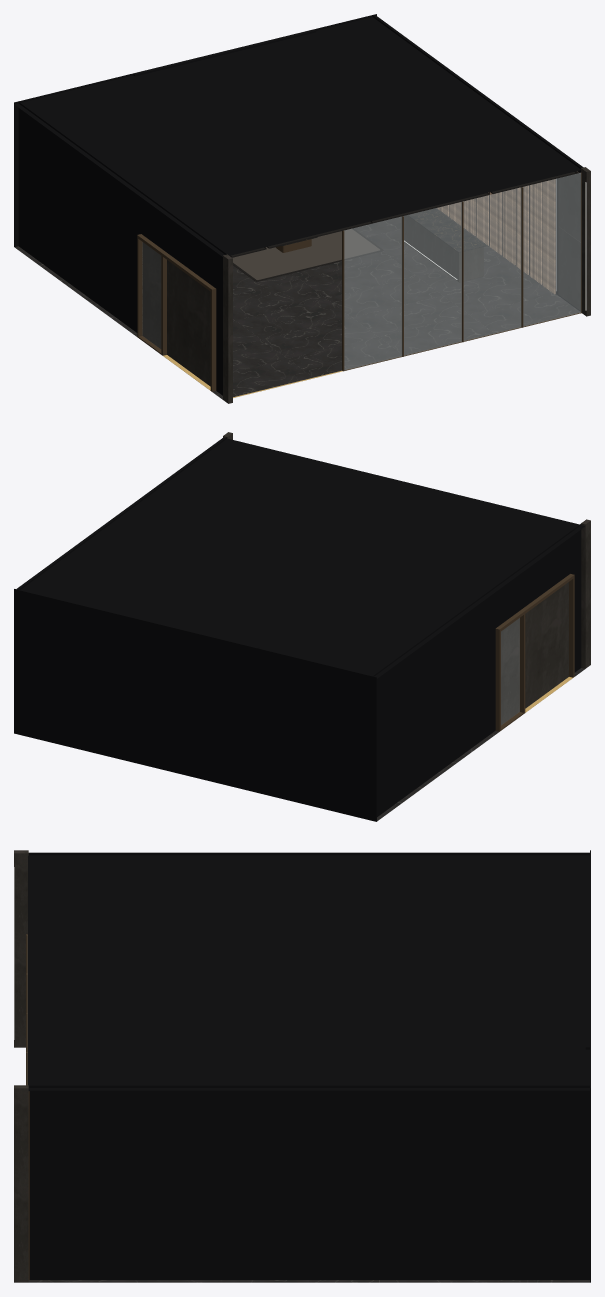
File: room_lounge.glb
3 renders of one model, top to bottom at view 1: azimuth 30°, elevation 25°; view 2: azimuth 150°, elevation 25°; view 3: azimuth 270°, elevation 25°, orthographic. The views are drawn at different scales.
Parts seen in each view (by area): view 1: MTG_Reveals, MTG_Glass_Vitrine, MTG_Floor, MTG_Walls, MTG_PortalFill_L, MTG_Rug, MTG_Counter, MTG_Glass_PortalL, MTG_Pier_-1, MTG_Counter_Top, MTG_Pier_1, MTG_Ceiling (+4 smaller); view 2: MTG_Reveals, MTG_PortalFill_L, MTG_Glass_PortalL, MTG_Pier_-1, MTG_PortalL_Mull, MTG_Floor, MTG_PortalL_JambA, MTG_PortalL_Head, MTG_PortalL_JambB; view 3: MTG_Reveals, MTG_Pier_1, MTG_Pier_-1, MTG_Floor.
Part boxes in pixels (x1=…): MTG_Reveals: x1=14, y1=14, x2=583, y2=395; MTG_Glass_Vitrine: x1=344, y1=173, x2=580, y2=369; MTG_Floor: x1=14, y1=208, x2=579, y2=399; MTG_Walls: x1=437, y1=171, x2=580, y2=310; MTG_PortalFill_L: x1=142, y1=242, x2=210, y2=386; MTG_Rug: x1=232, y1=228, x2=379, y2=280; MTG_Counter: x1=401, y1=215, x2=483, y2=282; MTG_Glass_PortalL: x1=142, y1=242, x2=160, y2=348; MTG_Pier_-1: x1=223, y1=254, x2=232, y2=403; MTG_Counter_Top: x1=407, y1=208, x2=485, y2=252; MTG_Pier_1: x1=581, y1=167, x2=590, y2=316; MTG_Ceiling: x1=230, y1=171, x2=576, y2=257; MTG_Reveals: x1=14, y1=437, x2=584, y2=821; MTG_PortalFill_L: x1=501, y1=582, x2=568, y2=725; MTG_Glass_PortalL: x1=501, y1=618, x2=519, y2=724; MTG_Pier_-1: x1=581, y1=519, x2=590, y2=668; MTG_PortalL_Mull: x1=519, y1=614, x2=525, y2=713; MTG_Floor: x1=377, y1=668, x2=584, y2=821; MTG_PortalL_JambA: x1=495, y1=631, x2=500, y2=731; MTG_PortalL_Head: x1=495, y1=574, x2=574, y2=632; MTG_PortalL_JambB: x1=569, y1=578, x2=574, y2=677; MTG_Reveals: x1=28, y1=850, x2=590, y2=1282; MTG_Pier_1: x1=14, y1=1085, x2=28, y2=1282; MTG_Pier_-1: x1=14, y1=850, x2=28, y2=1047; MTG_Floor: x1=28, y1=1280, x2=589, y2=1282.
Bounding box in the file's own units: 13 × 4.95 × 13.32.
Materials: 26 (6 with a texture image).
